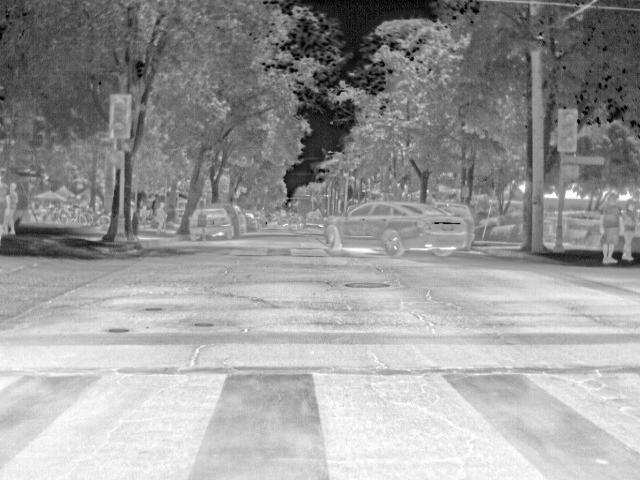car: (322, 200, 469, 256), (429, 200, 476, 241), (207, 207, 235, 239), (222, 206, 246, 234), (303, 210, 325, 228), (245, 211, 261, 231), (252, 211, 268, 228)
person: (600, 192, 622, 266), (621, 198, 637, 262), (0, 178, 12, 237), (9, 180, 19, 235), (155, 200, 168, 234), (195, 207, 207, 240), (139, 203, 151, 225)
